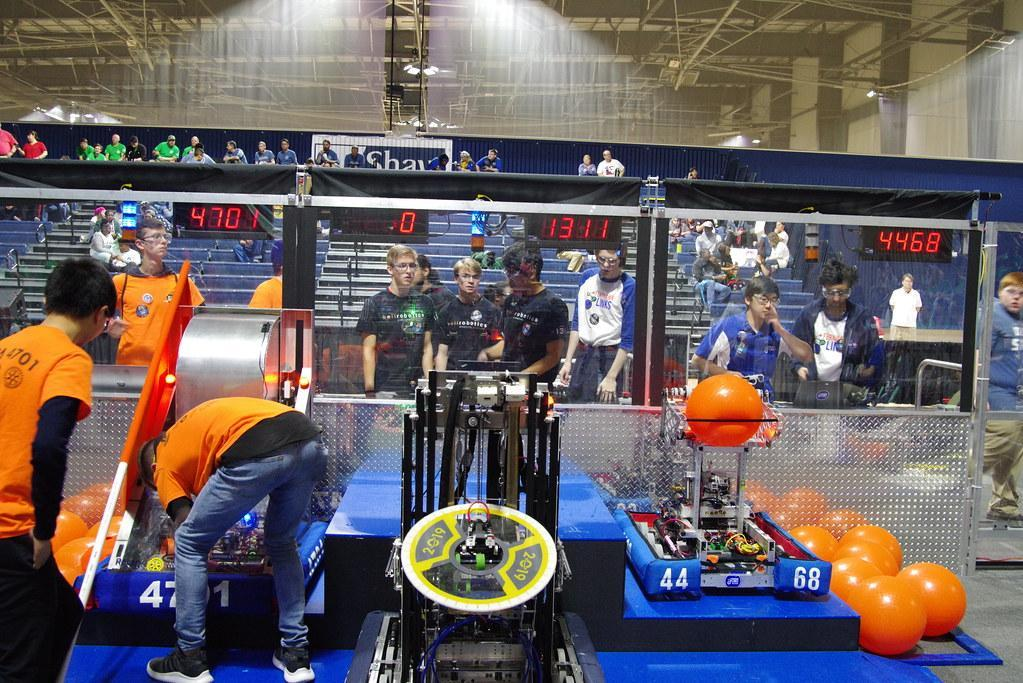robot: (613, 359, 836, 607)
